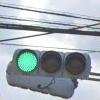traffic lights: (11, 48, 93, 80)
